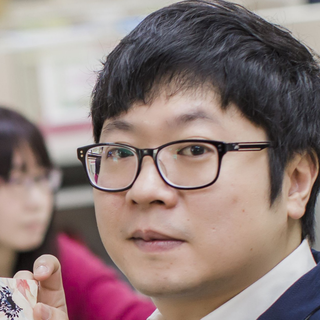eye: (174, 139, 216, 162), (101, 142, 141, 164)
